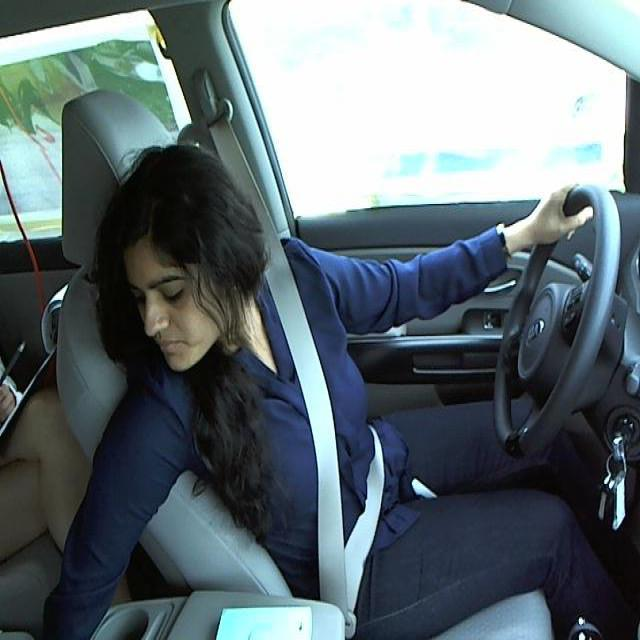seatbelt: (261, 273, 392, 587)
